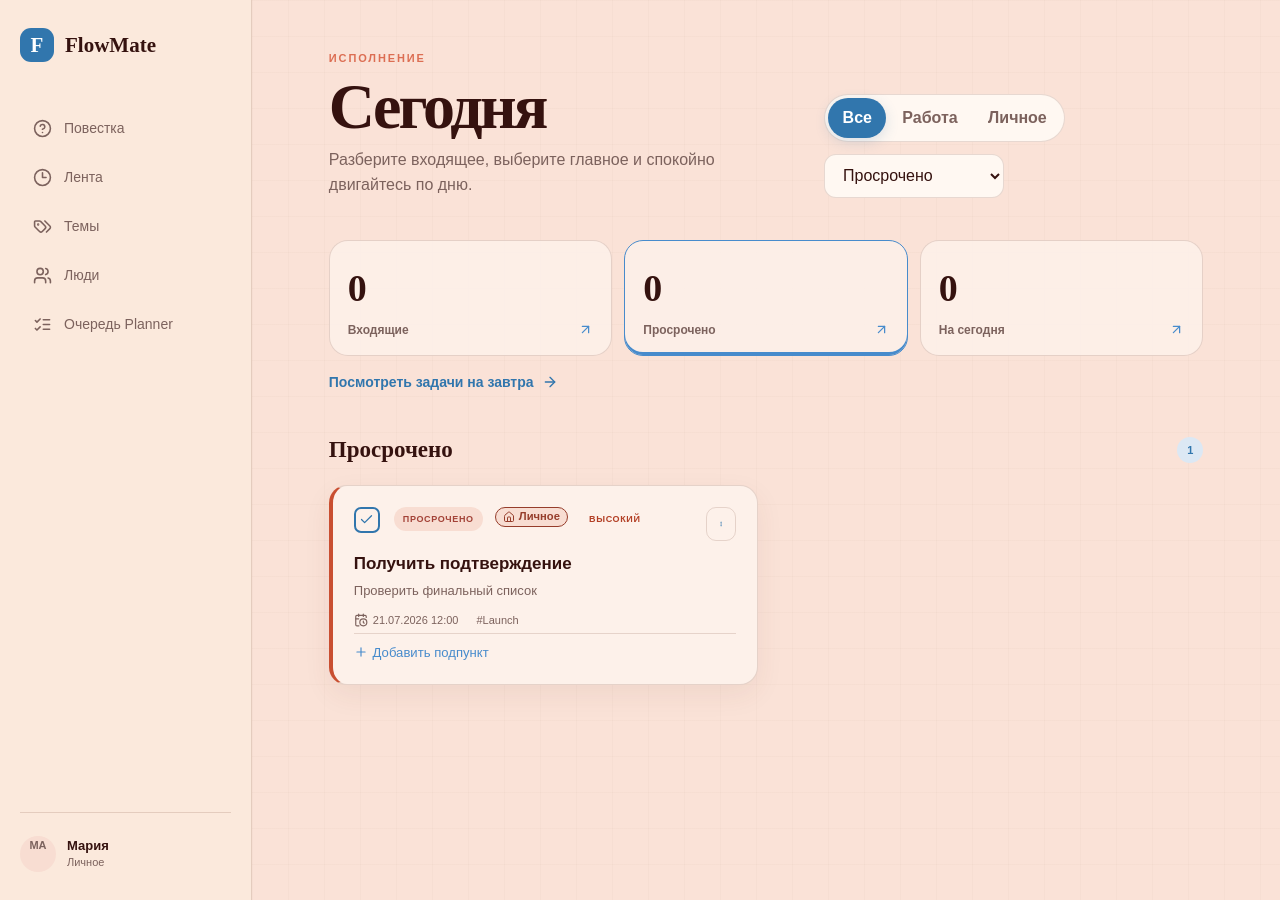
operational screens › keeps non-complete terminal actions immediate
This screenshot has width=1280, height=900.
What coordinates should you click on to do the following:
click the button named "Получено"
I would click on:
 (367, 520)
Its box is x1=354 y1=507 x2=380 y2=533.
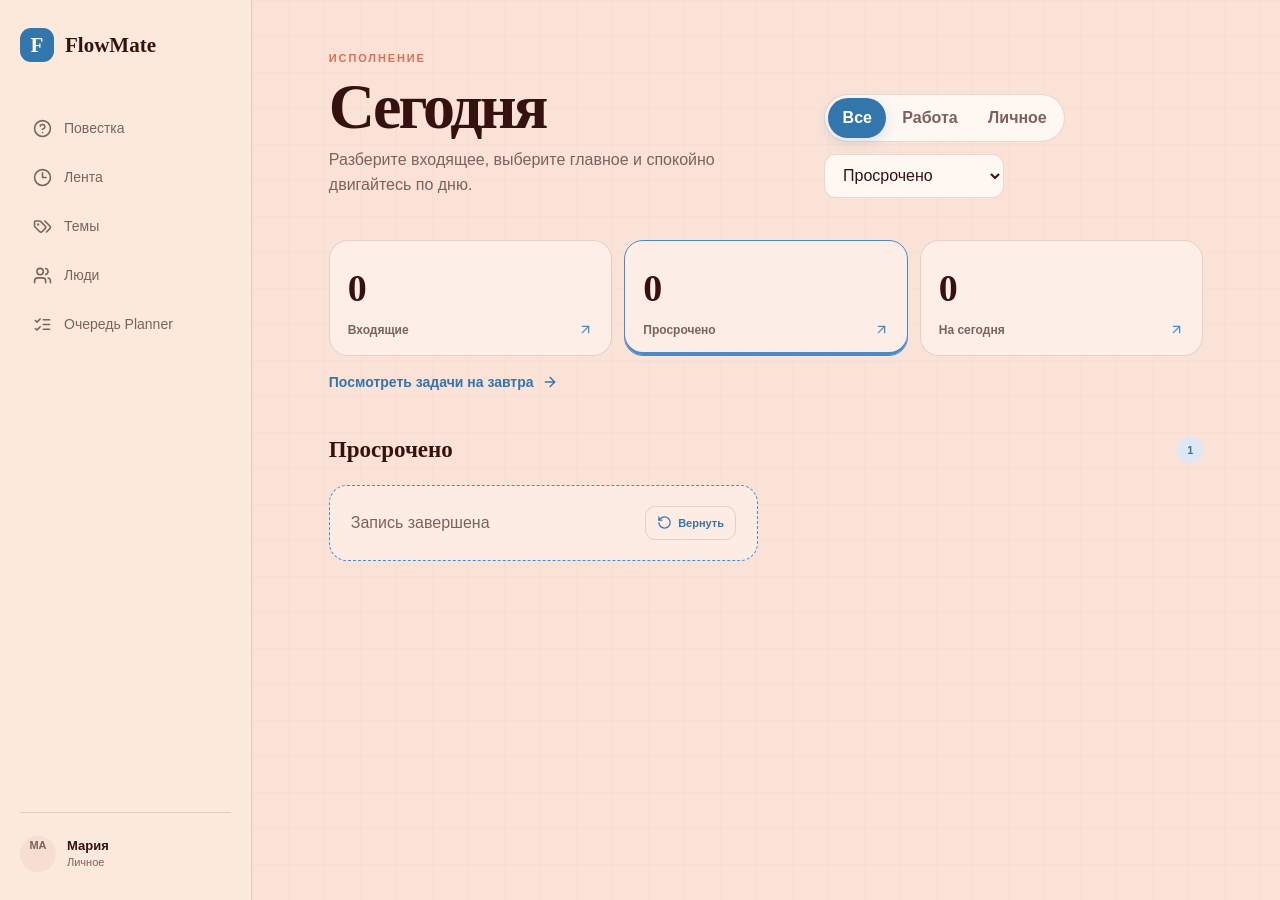
Check: the message shows "Запись завершена", box x1=351 y1=514 x2=490 y2=531
